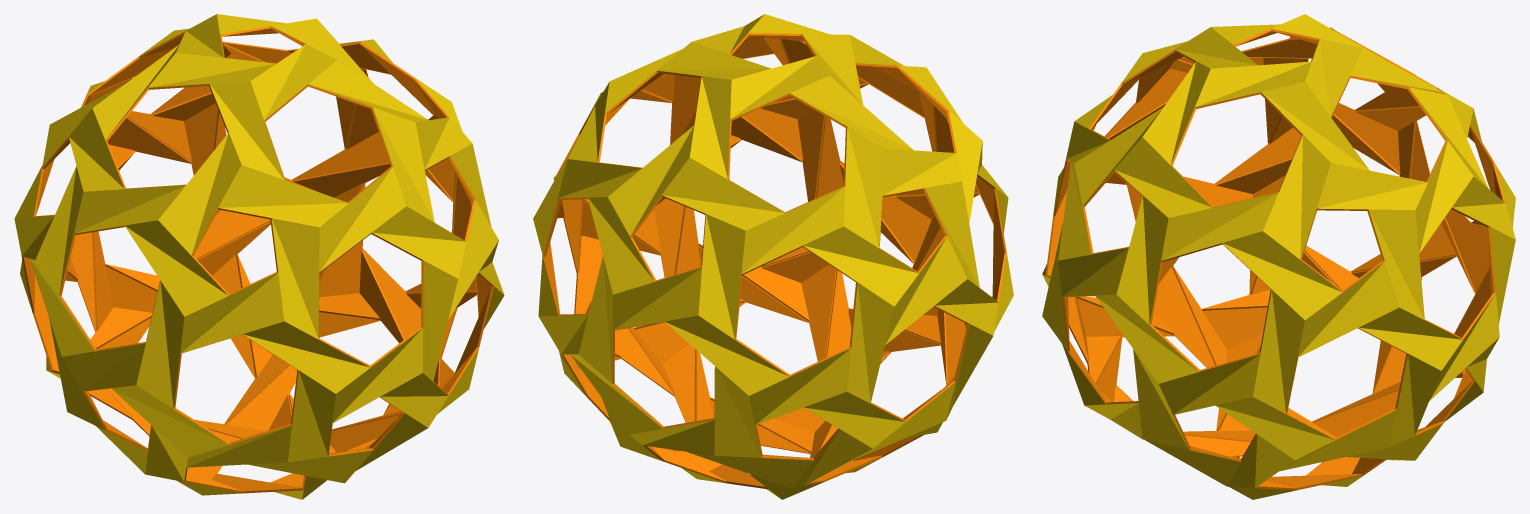
Rendered from TruncatedIcosahedron.glb.
The picture shows the model from 3 angles, left to right: view 1: azimuth 30°, elevation 25°; view 2: azimuth 150°, elevation 25°; view 3: azimuth 270°, elevation 25°; orthographic projection.
Visible parts, largest first — view 1: root; view 2: root; view 3: root.
Part boxes in pixels (x1,y1,x2,y2): root: (14,14,504,499); root: (533,14,1013,499); root: (1042,14,1515,499).
Bounding box in the file's own units: 8.74 × 8.38 × 8.6.
